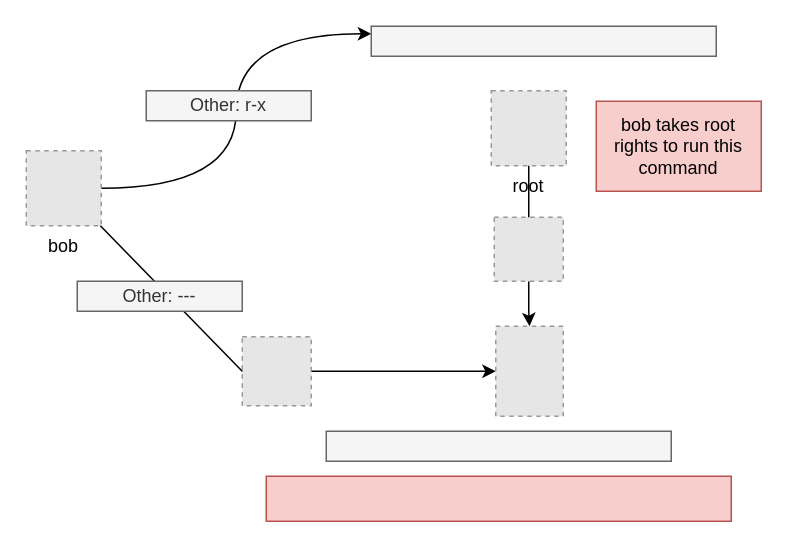
Image size: 788x548. Some labels were removed from this diagram. Grey dashed boxes stand in for pictures. Each missing label, with the centre of its shape:
"---------- root root /etc/shadow" belongs at [498,445].
"-rw s r-xr-x root root /usr/bin/passwd" belongs at [543,40].
"Even without explicit rights (only) root can read this file" belongs at [498,498].
